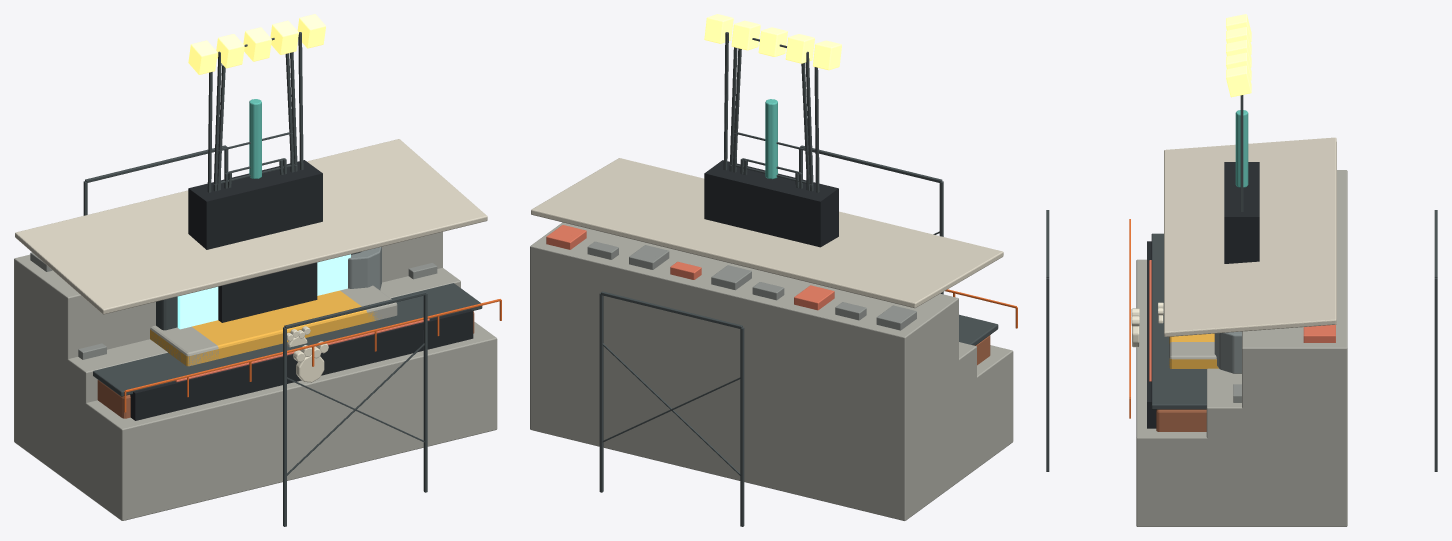
The model's file is kaki-thunderbowl-facility-kit-v1.glb.
3 views of the same model, side by side, from view 1: azimuth 30°, elevation 25°; view 2: azimuth 150°, elevation 25°; view 3: azimuth 270°, elevation 25° (orthographic). The views are drawn at different scales.
Visible parts, largest first — view 1: KR_STADIUM_GRANDSTAND_BAY_LOD2_KR_MAT_READABLE_CONCRETE, Canopy, KR_STADIUM_GRANDSTAND_BAY_LOD1_KR_MAT_READABLE_CONCRETE, KR_STADIUM_GRANDSTAND_BAY_LOD0_KR_MAT_READABLE_CONCRETE, KR_STADIUM_GRANDSTAND_BAY_COL_PROXY, KR_STADIUM_LIGHT_MAST_COL_PROXY, Roof.003, Header, KR_STADIUM_TIMING_TOWER_COL_PROXY, KR_STADIUM_GRANDSTAND_BAY_LOD0_KR_MAT_DARK_STRUCTURE, KR_STADIUM_LIGHT_MAST_LOD0_KR_MAT_WARM_LAMP, KR_STADIUM_ENTRY_TUNNEL_LOD0_KR_MAT_READABLE_CONCRETE (+14 smaller); view 2: KR_STADIUM_GRANDSTAND_BAY_LOD0_KR_MAT_READABLE_CONCRETE, Canopy, KR_STADIUM_GRANDSTAND_BAY_LOD2_KR_MAT_READABLE_CONCRETE, KR_STADIUM_LIGHT_MAST_COL_PROXY, KR_STADIUM_GRANDSTAND_BAY_LOD1_KR_MAT_READABLE_CONCRETE, KR_STADIUM_LIGHT_MAST_LOD0_KR_MAT_WARM_LAMP, KR_STADIUM_GRANDSTAND_BAY_LOD0_KR_MAT_DARK_STRUCTURE, KR_STADIUM_GRANDSTAND_BAY_LOD2_KR_MAT_DARK_STRUCTURE, KR_STADIUM_GRANDSTAND_BAY_LOD0_KR_MAT_WARM_GRAY, KR_STADIUM_GRANDSTAND_BAY_LOD0_KR_MAT_KAKI_EVENT_CORAL, KR_STADIUM_LIGHT_MAST_LOD1_KR_MAT_DARK_STRUCTURE, KR_STADIUM_LIGHT_MAST_LOD0_KR_MAT_DARK_STRUCTURE (+5 smaller); view 3: Canopy, KR_STADIUM_GRANDSTAND_BAY_LOD0_KR_MAT_READABLE_CONCRETE, KR_STADIUM_GRANDSTAND_BAY_LOD1_KR_MAT_READABLE_CONCRETE, KR_STADIUM_GRANDSTAND_BAY_LOD2_KR_MAT_READABLE_CONCRETE, Roof.003, KR_STADIUM_LIGHT_MAST_COL_PROXY, KR_STADIUM_GRANDSTAND_BAY_LOD0_KR_MAT_DARK_STRUCTURE, KR_STADIUM_LIGHT_MAST_LOD0_KR_MAT_WARM_LAMP, Shell.003, RoofVent.001, Antenna, KR_STADIUM_ENTRY_TUNNEL_LOD0_KR_MAT_READABLE_CONCRETE (+3 smaller).
Part boxes in pixels (<box>): KR_STADIUM_GRANDSTAND_BAY_LOD2_KR_MAT_READABLE_CONCRETE: <box>14,232,497,520</box>; Canopy: <box>15,139,487,314</box>; KR_STADIUM_GRANDSTAND_BAY_LOD1_KR_MAT_READABLE_CONCRETE: <box>14,259,497,519</box>; KR_STADIUM_GRANDSTAND_BAY_LOD0_KR_MAT_READABLE_CONCRETE: <box>14,254,497,520</box>; KR_STADIUM_GRANDSTAND_BAY_COL_PROXY: <box>130,309,473,420</box>; KR_STADIUM_LIGHT_MAST_COL_PROXY: <box>188,160,322,249</box>; Roof.003: <box>93,283,482,396</box>; Header: <box>150,290,377,366</box>; KR_STADIUM_TIMING_TOWER_COL_PROXY: <box>218,262,317,322</box>; KR_STADIUM_GRANDSTAND_BAY_LOD0_KR_MAT_DARK_STRUCTURE: <box>83,145,427,526</box>; KR_STADIUM_LIGHT_MAST_LOD0_KR_MAT_WARM_LAMP: <box>188,14,325,74</box>; KR_STADIUM_ENTRY_TUNNEL_LOD0_KR_MAT_READABLE_CONCRETE: <box>150,285,397,365</box>; KR_STADIUM_GRANDSTAND_BAY_LOD0_KR_MAT_READABLE_CONCRETE: <box>530,231,1013,520</box>; Canopy: <box>531,158,1003,308</box>; KR_STADIUM_GRANDSTAND_BAY_LOD2_KR_MAT_READABLE_CONCRETE: <box>531,222,1013,520</box>; KR_STADIUM_LIGHT_MAST_COL_PROXY: <box>704,160,838,247</box>; KR_STADIUM_GRANDSTAND_BAY_LOD1_KR_MAT_READABLE_CONCRETE: <box>559,239,1013,517</box>; KR_STADIUM_LIGHT_MAST_LOD0_KR_MAT_WARM_LAMP: <box>704,14,841,70</box>; KR_STADIUM_GRANDSTAND_BAY_LOD0_KR_MAT_DARK_STRUCTURE: <box>599,145,943,526</box>; KR_STADIUM_GRANDSTAND_BAY_LOD2_KR_MAT_DARK_STRUCTURE: <box>600,146,943,526</box>; KR_STADIUM_GRANDSTAND_BAY_LOD0_KR_MAT_WARM_GRAY: <box>587,241,907,330</box>; KR_STADIUM_GRANDSTAND_BAY_LOD0_KR_MAT_KAKI_EVENT_CORAL: <box>546,231,825,310</box>; KR_STADIUM_LIGHT_MAST_LOD1_KR_MAT_DARK_STRUCTURE: <box>729,38,813,191</box>; KR_STADIUM_LIGHT_MAST_LOD0_KR_MAT_DARK_STRUCTURE: <box>732,38,809,190</box>; Canopy: <box>1164,137,1336,336</box>; KR_STADIUM_GRANDSTAND_BAY_LOD0_KR_MAT_READABLE_CONCRETE: <box>1136,170,1347,526</box>; KR_STADIUM_GRANDSTAND_BAY_LOD1_KR_MAT_READABLE_CONCRETE: <box>1136,170,1346,526</box>; KR_STADIUM_GRANDSTAND_BAY_LOD2_KR_MAT_READABLE_CONCRETE: <box>1136,171,1346,526</box>; Roof.003: <box>1151,233,1206,409</box>; KR_STADIUM_LIGHT_MAST_COL_PROXY: <box>1224,162,1259,263</box>; KR_STADIUM_GRANDSTAND_BAY_LOD0_KR_MAT_DARK_STRUCTURE: <box>1046,210,1437,471</box>; KR_STADIUM_LIGHT_MAST_LOD0_KR_MAT_WARM_LAMP: <box>1226,14,1251,97</box>; Shell.003: <box>1156,409,1206,431</box>; RoofVent.001: <box>1214,331,1241,373</box>; Antenna: <box>1235,110,1248,187</box>; KR_STADIUM_ENTRY_TUNNEL_LOD0_KR_MAT_READABLE_CONCRETE: <box>1169,342,1216,367</box>.
Size of the model in its own units: 16.4 by 16.51 by 14.84.
